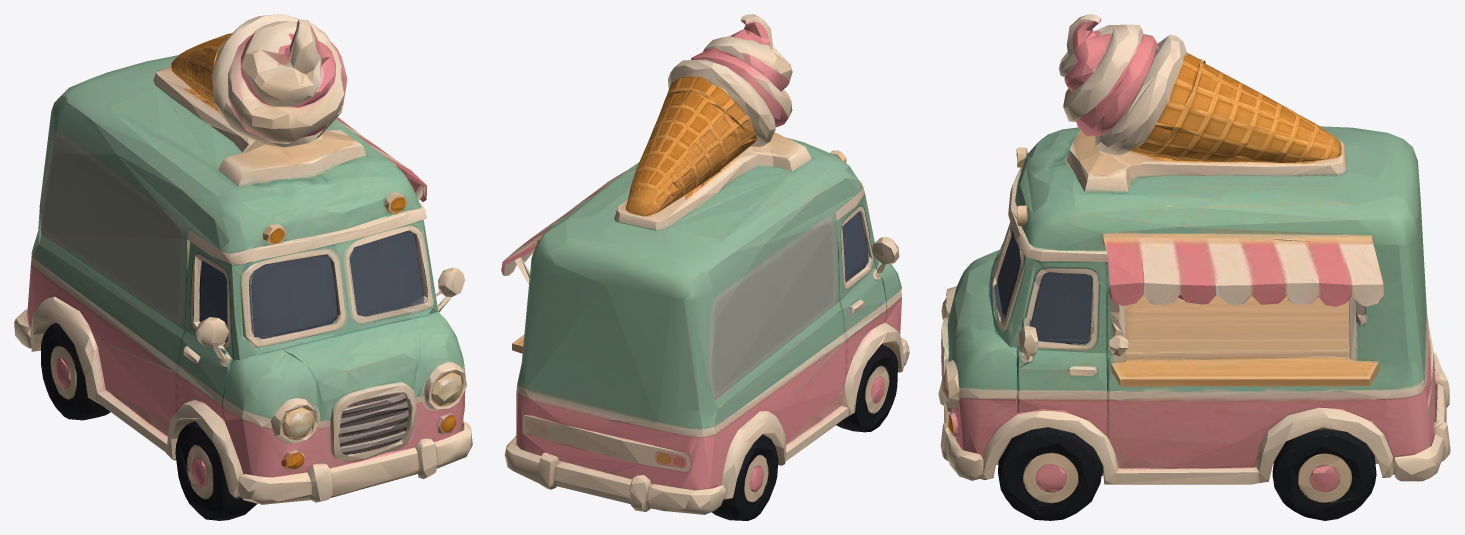
The model's file is ice-cream-truck.glb.
The picture shows the model from 3 angles, left to right: view 1: azimuth 30°, elevation 25°; view 2: azimuth 150°, elevation 25°; view 3: azimuth 270°, elevation 25°; orthographic projection. The views are drawn at different scales.
Size of the model in its own units: 3.08 by 4.9 by 5.
Materials: 1 (1 with a texture image).
